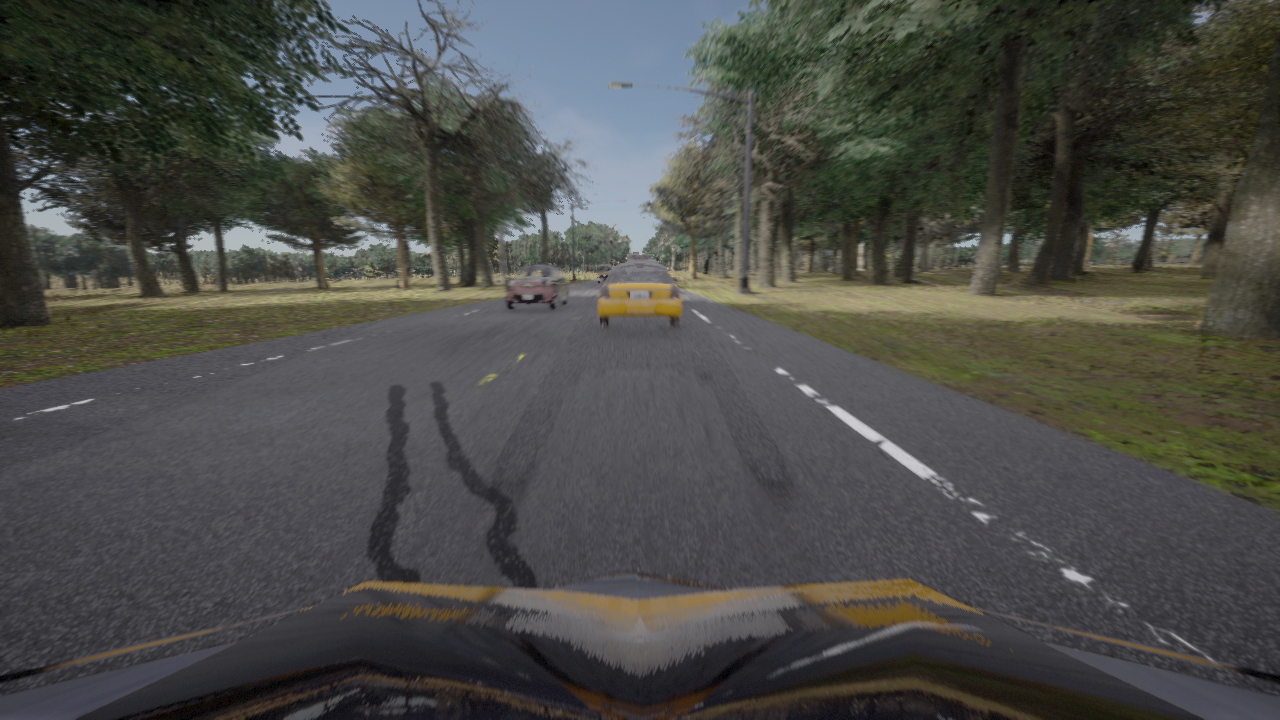cyclist: (0, 569, 1279, 719), (598, 257, 680, 327), (505, 264, 568, 309), (595, 264, 613, 284), (629, 251, 650, 258), (651, 260, 657, 263)
